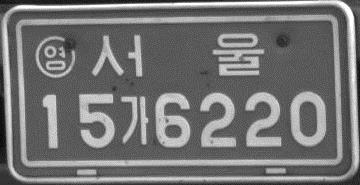0: (289, 91, 328, 149)
1: (37, 92, 67, 151)
2: (242, 90, 284, 149), (198, 91, 238, 149)
5: (75, 91, 118, 151)
6: (153, 91, 191, 149)
가: (118, 93, 151, 148)
서울_D: (89, 30, 268, 80)
영: (34, 35, 77, 79)
